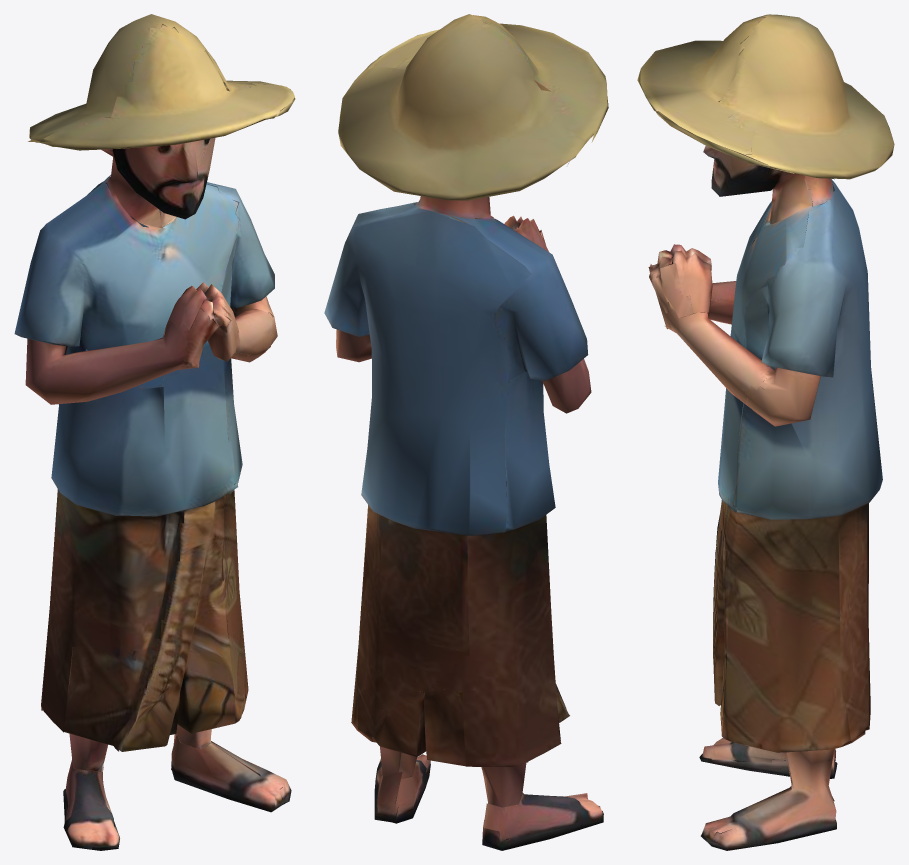
File: crowd-vendor.glb
3 views of the same model, side by side, from view 1: azimuth 30°, elevation 25°; view 2: azimuth 150°, elevation 25°; view 3: azimuth 270°, elevation 25° (orthographic).
Parts seen in each view (by area): view 1: model; view 2: model; view 3: model.
Part boxes in pixels (x1,y1,x2,y2): model: (14, 14, 295, 850); model: (324, 14, 608, 850); model: (637, 14, 894, 850).
Bounding box in the file's own units: 0.57 × 1.68 × 0.5005.
1 material, 1 textured.
